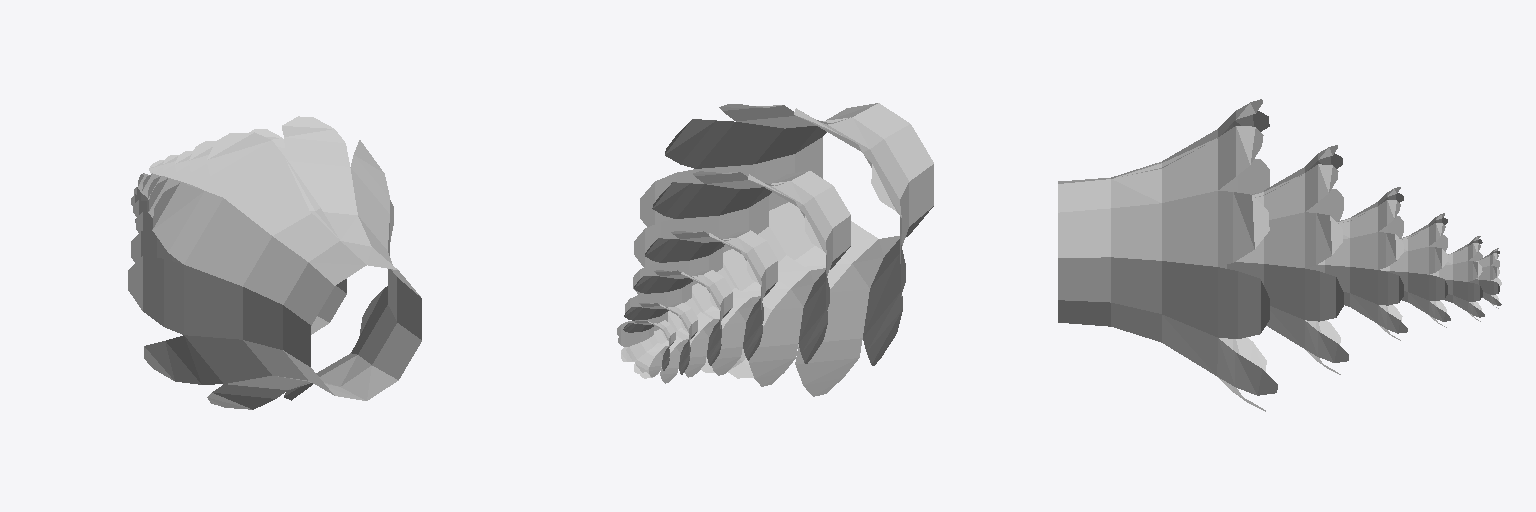
File: dragonTail.obj
3 views of the same model, side by side, from view 1: azimuth 30°, elevation 25°; view 2: azimuth 150°, elevation 25°; view 3: azimuth 270°, elevation 25° (orthographic).
Visible parts, largest first — view 1: Circle.014; view 2: Circle.014; view 3: Circle.014.
Boxes of the visible parts, x1=… form: Circle.014: x1=128, y1=116, x2=421, y2=409; Circle.014: x1=617, y1=103, x2=933, y2=396; Circle.014: x1=1058, y1=99, x2=1501, y2=411.
Size of the model in its own units: 0.4555 by 0.45 by 0.6588.